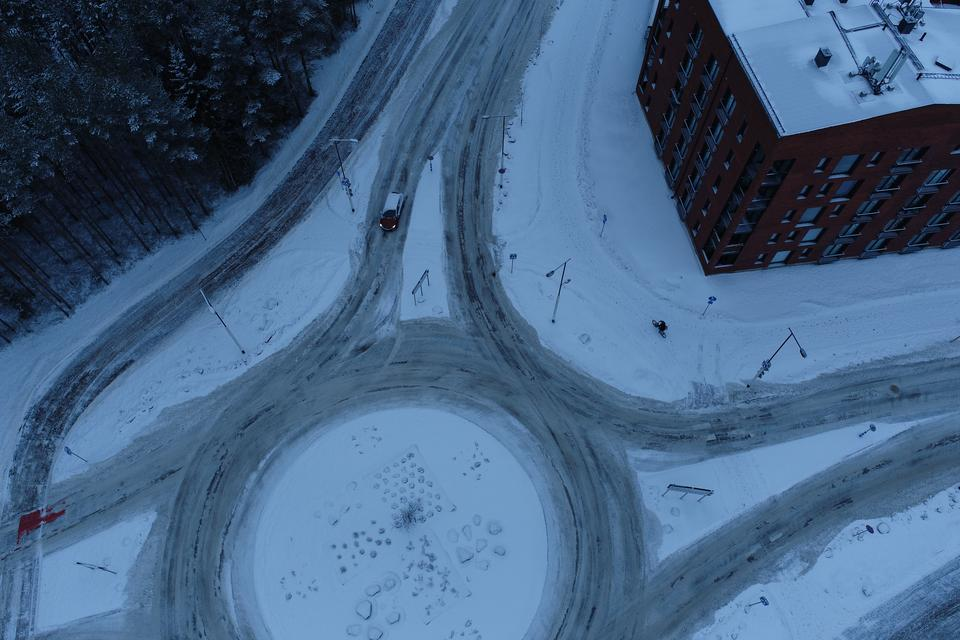intersection: (0, 409, 74, 640)
roundabout: (83, 323, 688, 640)
